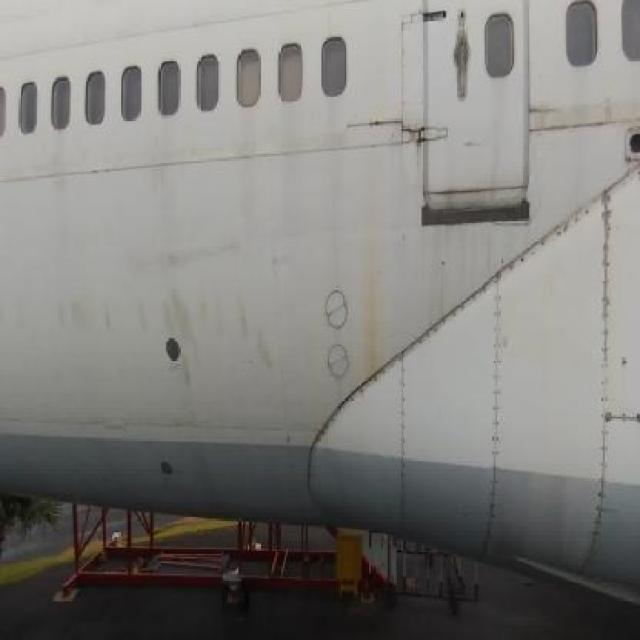Missing-Rivet: (508, 203, 598, 289), (598, 179, 616, 546), (406, 282, 486, 362), (486, 265, 506, 530), (338, 362, 399, 426), (394, 349, 415, 500)
Rust: (356, 177, 398, 378), (403, 101, 432, 181)
Scartch: (23, 288, 282, 380), (104, 220, 258, 285), (529, 83, 620, 157), (267, 227, 304, 282)
